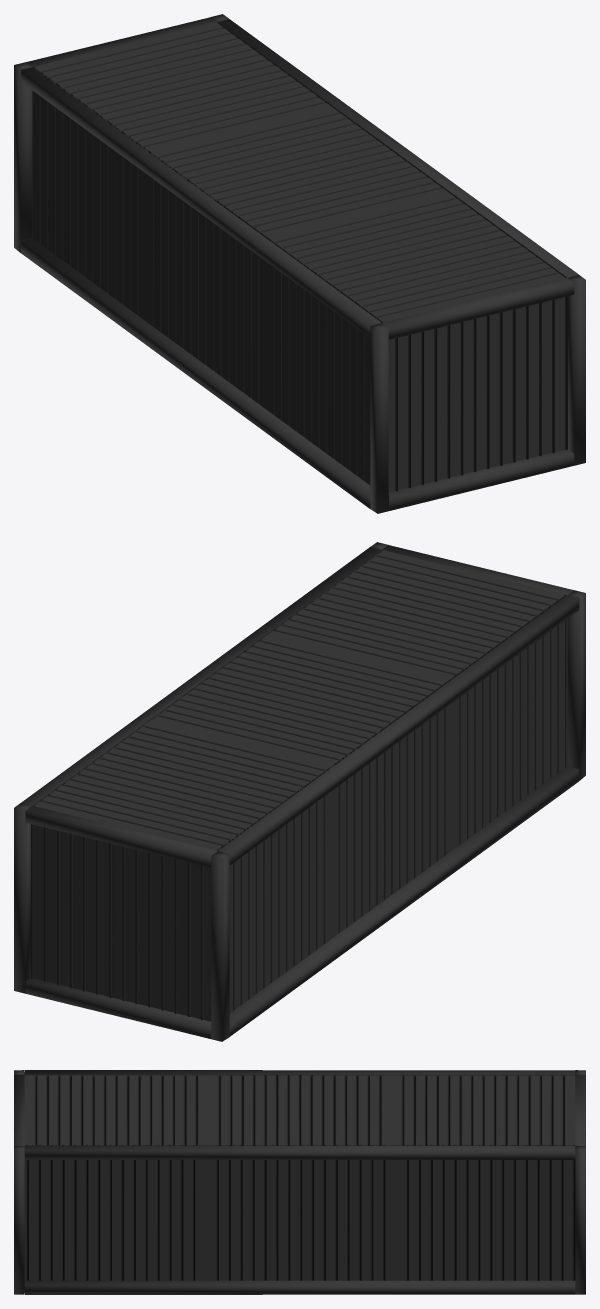
File: container den.fbx
3 views of the same model, one above another, from view 1: azimuth 30°, elevation 25°; view 2: azimuth 150°, elevation 25°; view 3: azimuth 270°, elevation 25° (orthographic). The views are drawn at different scales.
Parts seen in each view (by area): view 1: Plane.064; view 2: Plane.064; view 3: Plane.064.
Boxes of the visible parts, box(x1,y1,x2,y2) form: Plane.064: box(14, 14, 585, 513); Plane.064: box(14, 542, 585, 1041); Plane.064: box(14, 1070, 585, 1294).
Size of the model in its own units: 581 by 487 by 1748.
